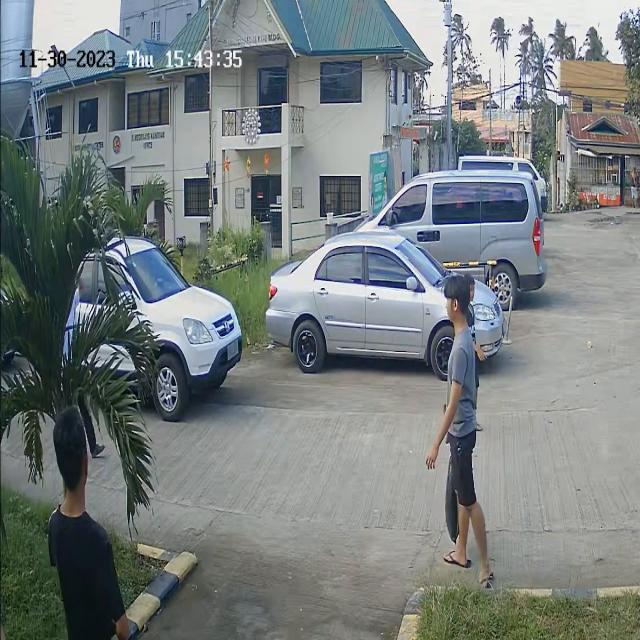garbage: (441, 452, 463, 542)
person: (439, 278, 490, 592), (50, 407, 116, 640)
